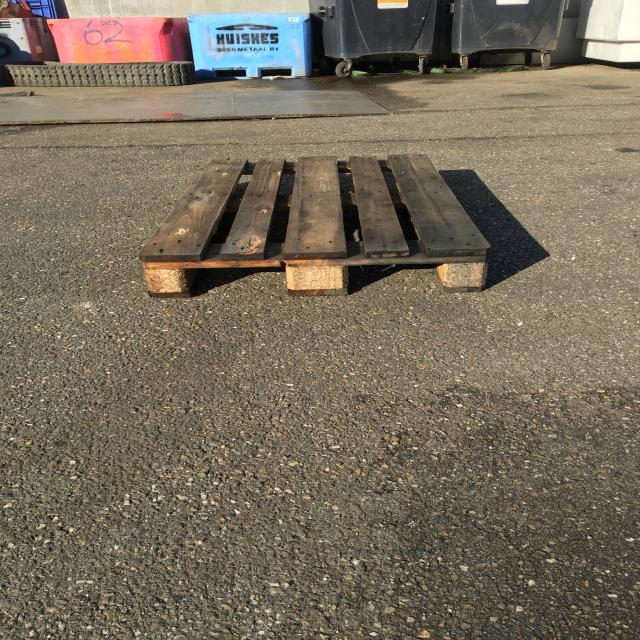block: (285, 260, 347, 298), (135, 259, 192, 300), (443, 257, 490, 292)
front: (133, 251, 496, 300)
